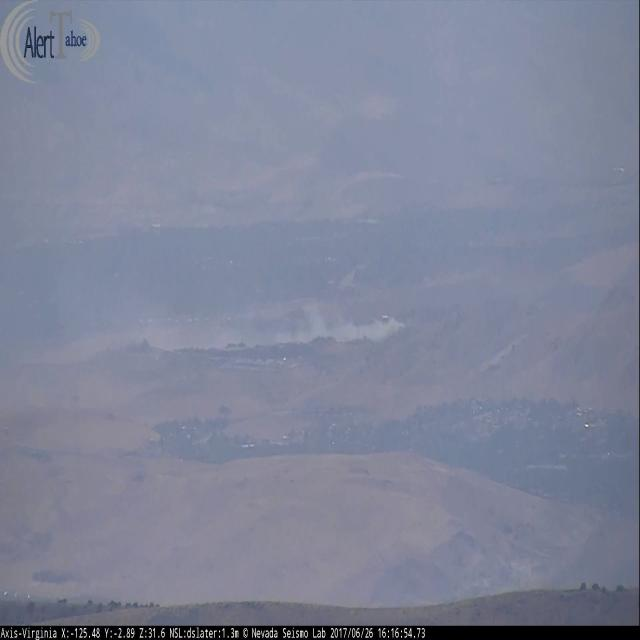smoke: (301, 296, 404, 338)
